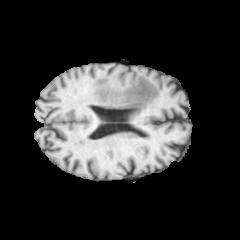glioma: (93, 75, 158, 108)
